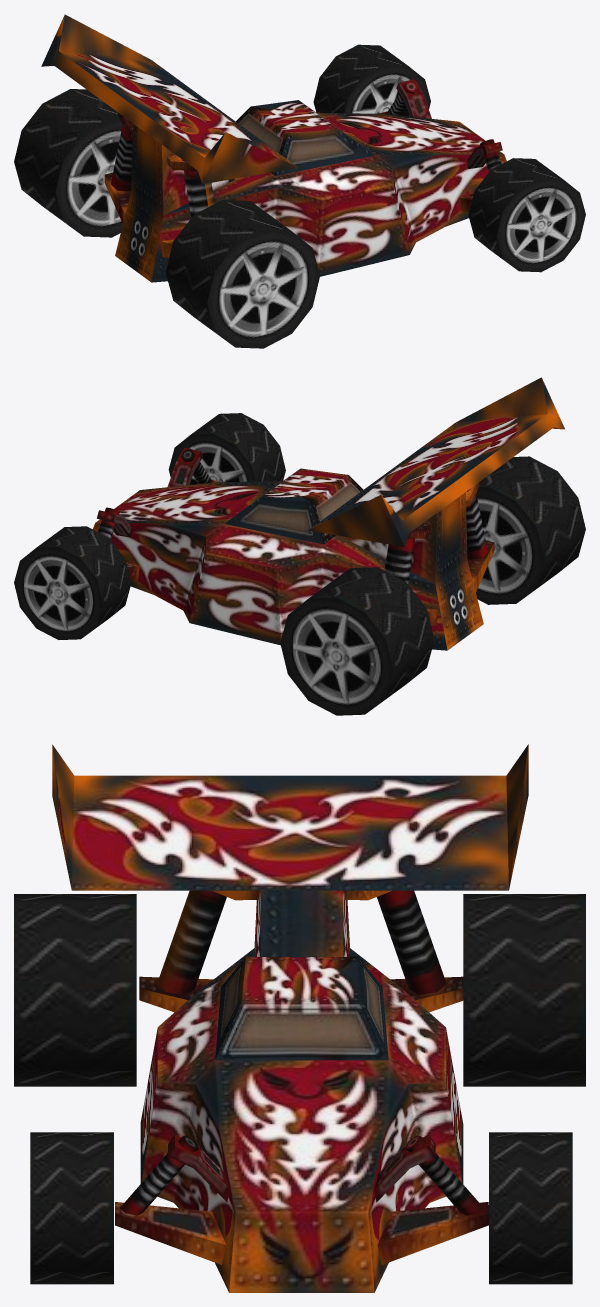
File: car4.fbx
3 views of the same model, one above another, from view 1: azimuth 30°, elevation 25°; view 2: azimuth 150°, elevation 25°; view 3: azimuth 270°, elevation 25° (orthographic). The views are drawn at different scales.
Visible parts, largest first — view 1: car4; view 2: car4; view 3: car4.
Part boxes in pixels (x1,y1,x2,y2): car4: (14,14,585,348); car4: (14,377,585,715); car4: (14,744,585,1292).
Bounding box in the file's own units: 3.47 × 1.82 × 3.
